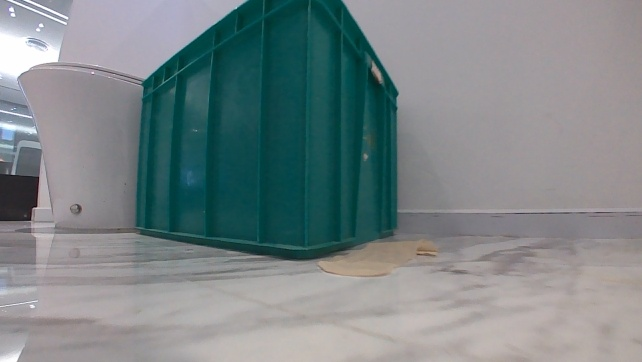socks: (311, 238, 440, 278)
toilet: (13, 59, 139, 231)
